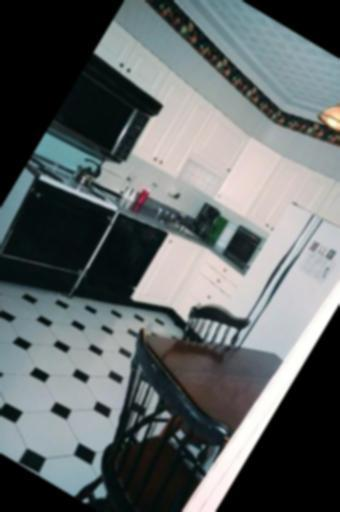Electrodomestico: (0, 164, 125, 309), (222, 206, 340, 356), (80, 213, 167, 310)
